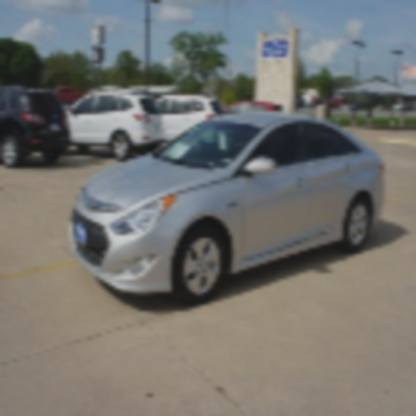Vehicle: (70, 114, 386, 304)
